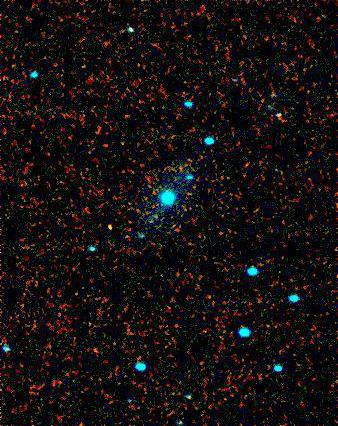star: (95, 213, 125, 243)
